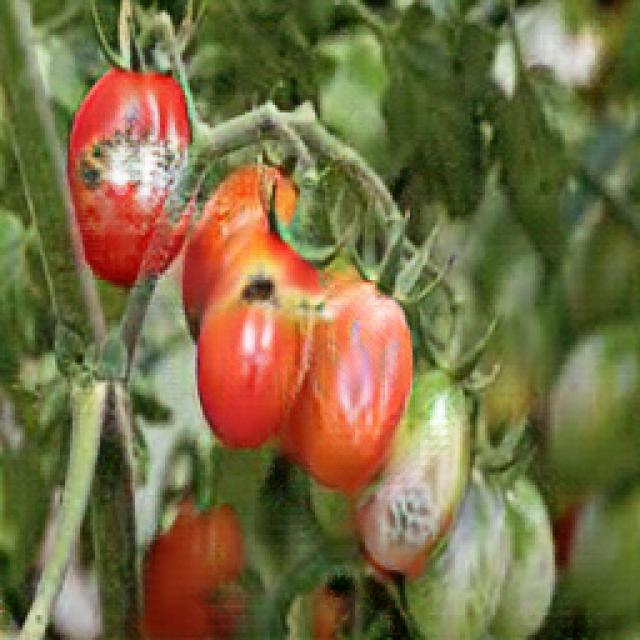overripe tomato: (191, 220, 336, 439), (67, 43, 197, 287), (283, 274, 432, 474)
